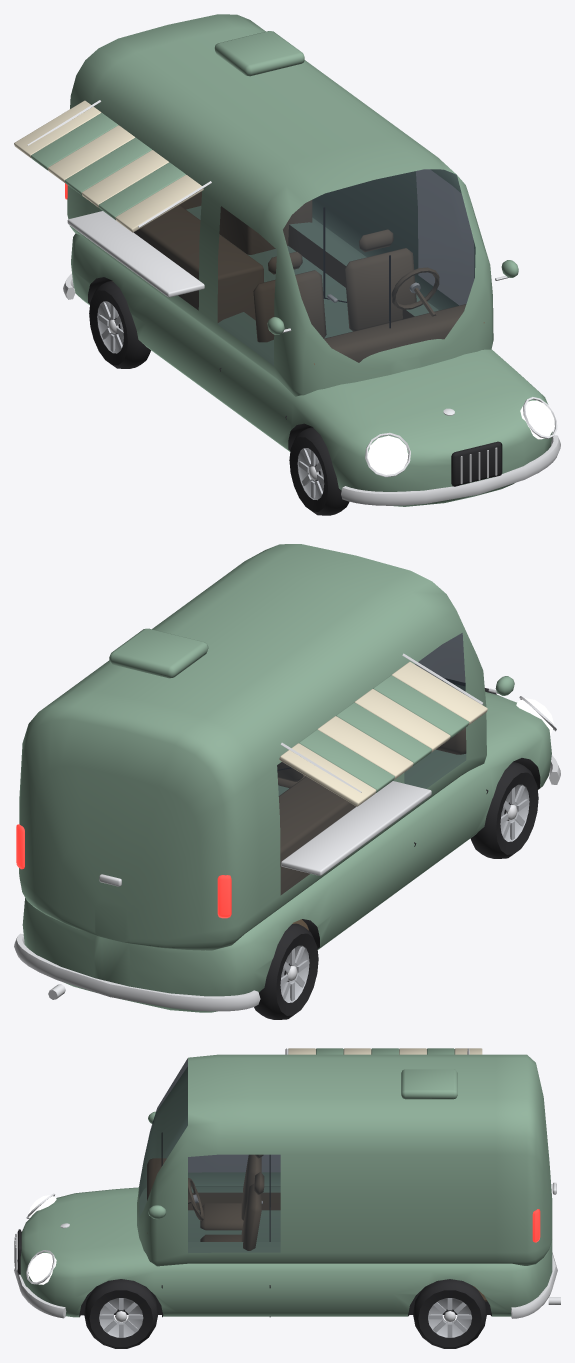
File: van.glb
3 views of the same model, one above another, from view 1: azimuth 30°, elevation 25°; view 2: azimuth 150°, elevation 25°; view 3: azimuth 270°, elevation 25° (orthographic). The views are drawn at different scales.
Visible parts, largest first — view 1: body, wheel_RR_mesh, wheel_FR_mesh; view 2: body, wheel_FR_mesh, wheel_RR_mesh; view 3: body, wheel_FL_mesh, wheel_RL_mesh.
Boxes of the visible parts, left/top/right/bottom form: body: left=14, top=14, right=560, bottom=506; wheel_RR_mesh: left=89, top=280, right=150, bottom=368; wheel_FR_mesh: left=289, top=427, right=349, bottom=515; body: left=14, top=544, right=560, bottom=1012; wheel_FR_mesh: left=470, top=762, right=538, bottom=858; wheel_RR_mesh: left=254, top=923, right=318, bottom=1019; body: left=14, top=1048, right=560, bottom=1318; wheel_FL_mesh: left=84, top=1279, right=158, bottom=1348; wheel_RL_mesh: left=413, top=1279, right=486, bottom=1348.
Size of the model in its own units: 2.81 by 2.6 by 5.32.
